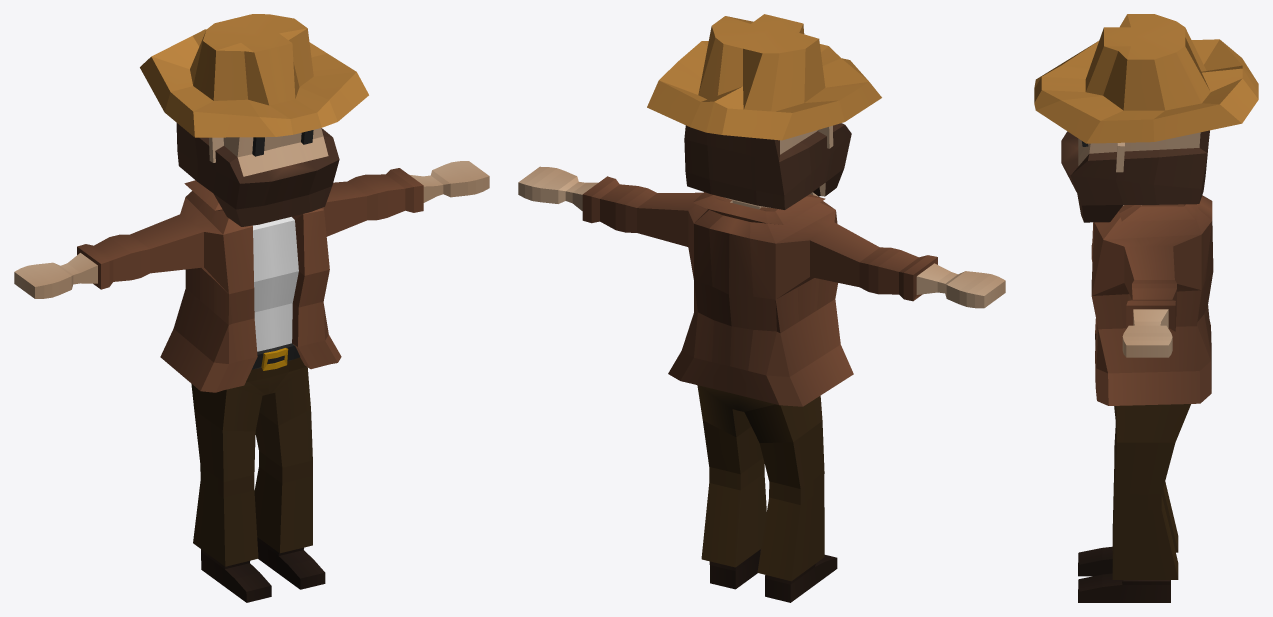
The model's file is Player.fbx.
3 views of the same model, side by side, from view 1: azimuth 30°, elevation 25°; view 2: azimuth 150°, elevation 25°; view 3: azimuth 270°, elevation 25° (orthographic). The views are drawn at different scales.
Visible parts, largest first — view 1: Guy; view 2: Guy; view 3: Guy.
Boxes of the visible parts, x1,y1,x2,y2 form: Guy: (14, 14, 489, 602); Guy: (518, 14, 1005, 602); Guy: (1034, 14, 1258, 602).
Size of the model in its own units: 177 by 199 by 74.28.
1 material, 1 textured.
